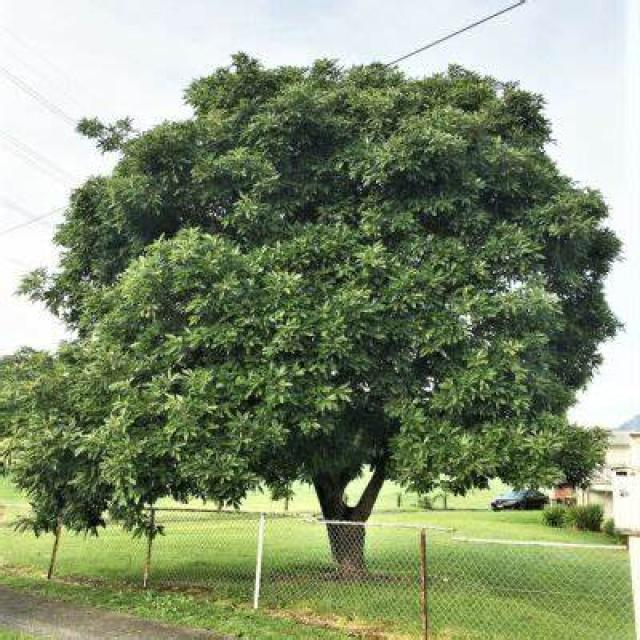Mango-Tree: (53, 97, 592, 500)
